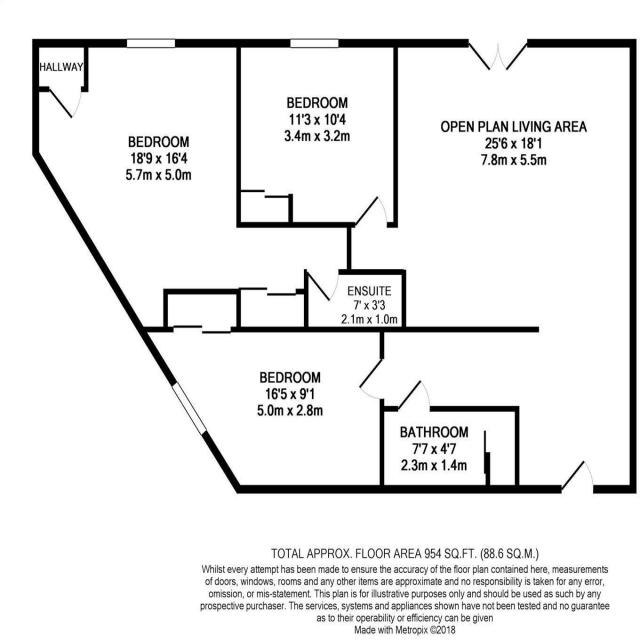DOOR: (558, 453, 599, 496), (300, 265, 342, 306), (45, 82, 84, 126), (355, 352, 387, 404), (395, 374, 435, 415), (352, 192, 391, 233)
ROOM: (344, 35, 639, 497), (29, 39, 353, 334), (132, 325, 386, 496), (235, 36, 400, 232)
WINDOW: (167, 377, 210, 440), (123, 35, 177, 52), (288, 36, 341, 51)
